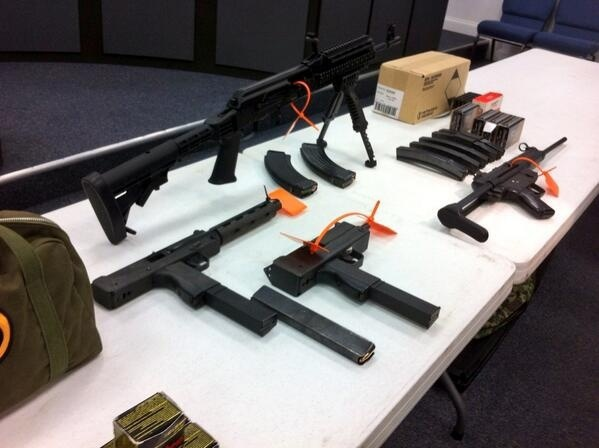ak47: (89, 31, 404, 186), (444, 124, 569, 239)
